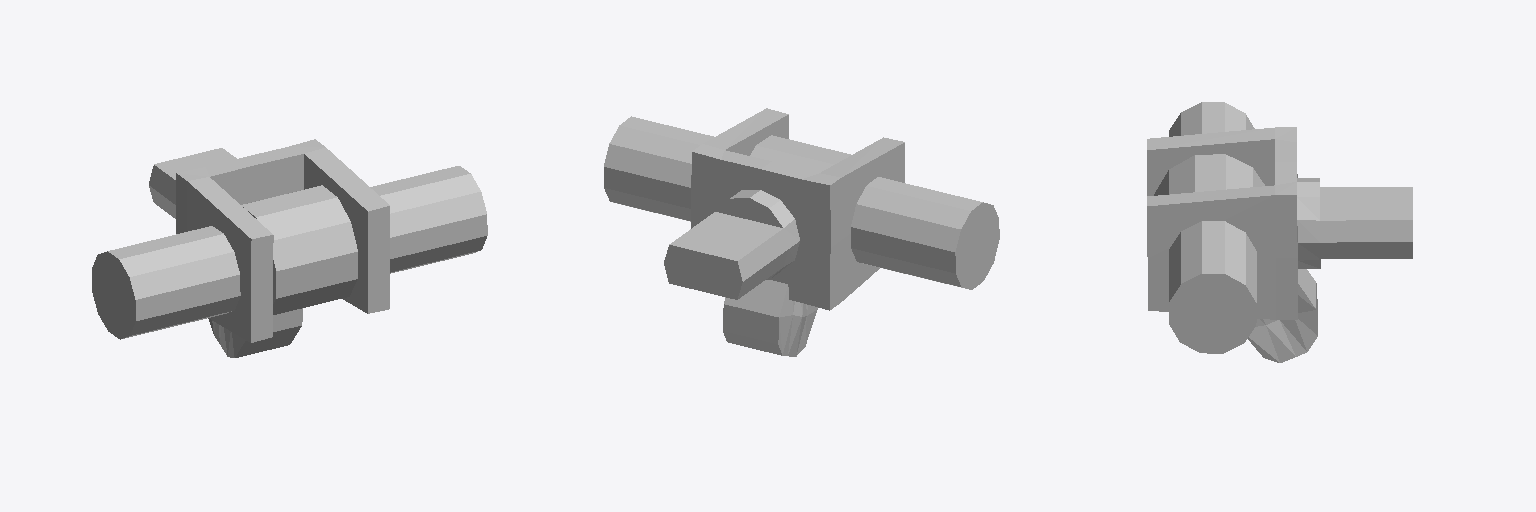
File: wristA.obj
3 views of the same model, side by side, from view 1: azimuth 30°, elevation 25°; view 2: azimuth 150°, elevation 25°; view 3: azimuth 270°, elevation 25° (orthographic).
Visible parts, largest first — view 1: handB:hand_lowpolySurface397polySurface20, handB:hand_lowpolySurface397polySurface49, handB:hand_lowpolySurface397polySurface15, handB:hand_lowpolySurface397polySurface3, handB:hand_lowpolySurface397polySurface21, handB:hand_lowpolySurface397polySurface24, handB:hand_lowpolySurface397polySurface40, handB:hand_lowpolySurface397polySurface22, handB:hand_lowpolySurface397polySurface7, handB:hand_lowpolySurface397polySurface25, handB:hand_lowpolySurface397polySurface19; view 2: handB:hand_lowpolySurface397polySurface20, handB:hand_lowpolySurface397polySurface47, handB:hand_lowpolySurface397polySurface49, handB:hand_lowpolySurface397polySurface3, handB:hand_lowpolySurface397polySurface15, handB:hand_lowpolySurface397polySurface19, handB:hand_lowpolySurface397polySurface25, handB:hand_lowpolySurface397polySurface34, handB:hand_lowpolySurface397polySurface24, handB:hand_lowpolySurface397polySurface44, handB:hand_lowpolySurface397polySurface40; view 3: handB:hand_lowpolySurface397polySurface4, handB:hand_lowpolySurface397polySurface20, handB:hand_lowpolySurface397polySurface49, handB:hand_lowpolySurface397polySurface19, handB:hand_lowpolySurface397polySurface27, handB:hand_lowpolySurface397polySurface15, handB:hand_lowpolySurface397polySurface25, handB:hand_lowpolySurface397polySurface13.
Boxes of the visible parts, box(x1,y1,x2,y2) form: handB:hand_lowpolySurface397polySurface20: box(108, 166, 487, 338); handB:hand_lowpolySurface397polySurface49: box(208, 185, 357, 357); handB:hand_lowpolySurface397polySurface15: box(177, 139, 389, 238); handB:hand_lowpolySurface397polySurface3: box(176, 173, 251, 342); handB:hand_lowpolySurface397polySurface21: box(210, 154, 303, 204); handB:hand_lowpolySurface397polySurface24: box(92, 251, 135, 339); handB:hand_lowpolySurface397polySurface40: box(304, 154, 367, 313); handB:hand_lowpolySurface397polySurface22: box(251, 235, 273, 342); handB:hand_lowpolySurface397polySurface7: box(368, 206, 389, 313); handB:hand_lowpolySurface397polySurface25: box(154, 148, 236, 179); handB:hand_lowpolySurface397polySurface19: box(149, 165, 175, 218); handB:hand_lowpolySurface397polySurface20: box(604, 116, 982, 288); handB:hand_lowpolySurface397polySurface47: box(691, 152, 830, 310); handB:hand_lowpolySurface397polySurface49: box(723, 135, 850, 356); handB:hand_lowpolySurface397polySurface3: box(830, 143, 904, 309); handB:hand_lowpolySurface397polySurface15: box(692, 108, 904, 184); handB:hand_lowpolySurface397polySurface19: box(730, 190, 799, 298); handB:hand_lowpolySurface397polySurface25: box(669, 212, 782, 260); handB:hand_lowpolySurface397polySurface34: box(664, 245, 742, 299); handB:hand_lowpolySurface397polySurface24: box(955, 202, 999, 289); handB:hand_lowpolySurface397polySurface44: box(715, 198, 782, 227); handB:hand_lowpolySurface397polySurface40: box(726, 115, 788, 155); handB:hand_lowpolySurface397polySurface4: box(1147, 195, 1297, 319); handB:hand_lowpolySurface397polySurface20: box(1169, 102, 1256, 302); handB:hand_lowpolySurface397polySurface49: box(1154, 154, 1317, 362); handB:hand_lowpolySurface397polySurface19: box(1297, 178, 1412, 268); handB:hand_lowpolySurface397polySurface27: box(1169, 274, 1256, 353); handB:hand_lowpolySurface397polySurface15: box(1147, 127, 1296, 205); handB:hand_lowpolySurface397polySurface25: box(1320, 187, 1412, 220); handB:hand_lowpolySurface397polySurface13: box(1147, 139, 1274, 195).
Size of the model in its own units: 80.37 by 41.05 by 52.62.